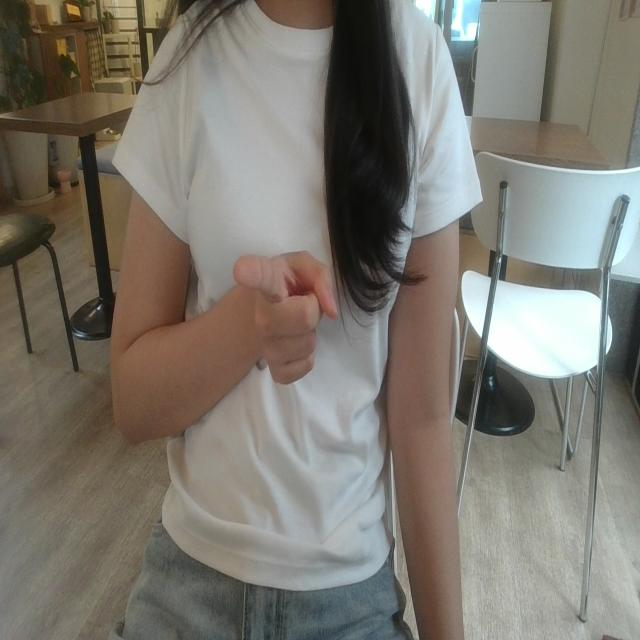eo: (226, 224, 347, 404)
